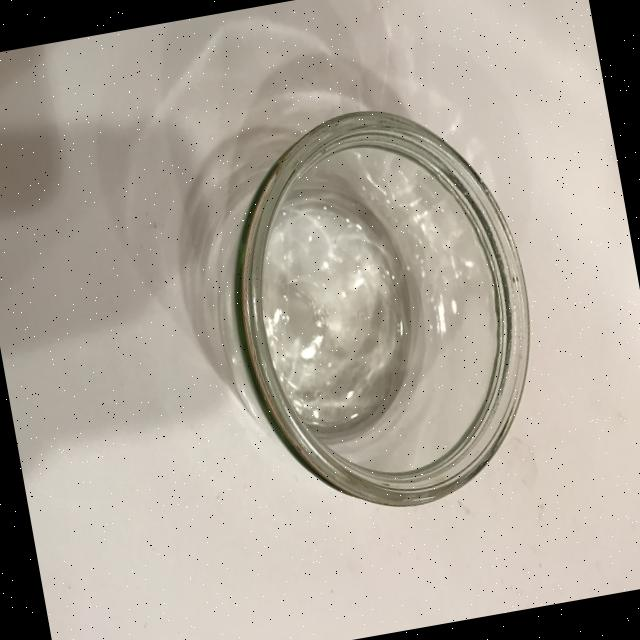glass: (194, 84, 560, 532)
